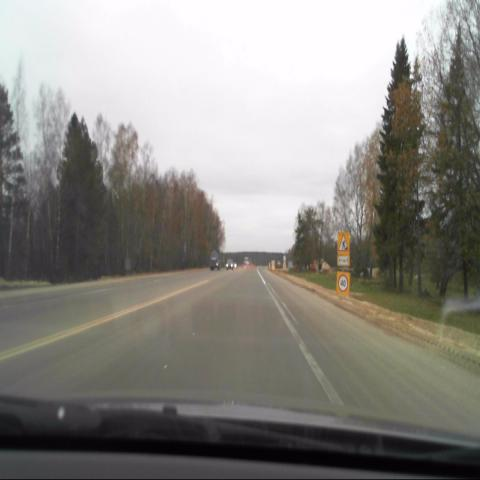1_25: (337, 232, 350, 255)
